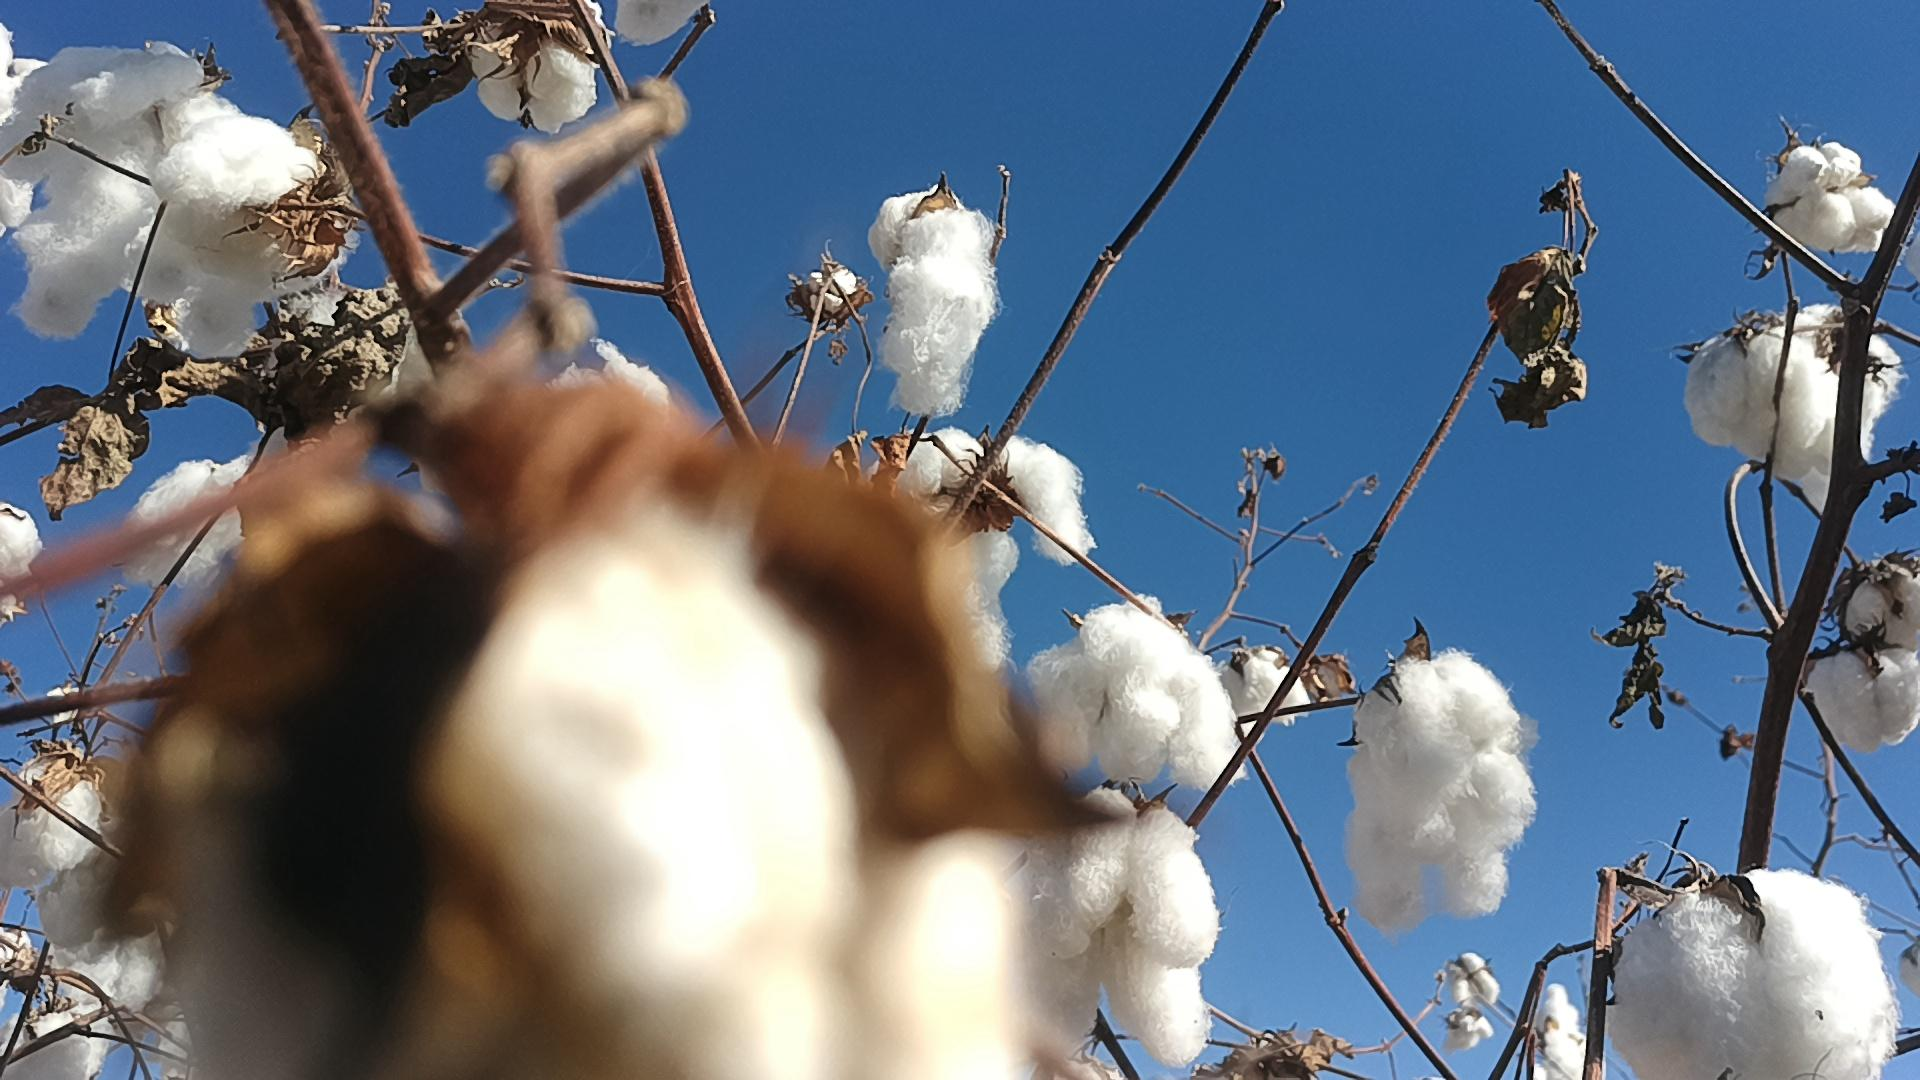cotton_ready: (171, 535, 1026, 1080), (0, 40, 351, 357), (1606, 870, 1898, 1080), (1010, 786, 1218, 1060), (1350, 651, 1536, 934), (884, 426, 1088, 659), (1018, 593, 1247, 789), (1683, 302, 1898, 509), (866, 191, 996, 415), (0, 756, 128, 901), (125, 454, 262, 587), (476, 0, 605, 133), (1768, 141, 1902, 261), (306, 284, 442, 401), (55, 927, 178, 1035), (1804, 641, 1920, 750), (526, 338, 683, 407), (0, 28, 47, 228), (1217, 653, 1316, 725), (1847, 555, 1920, 645), (0, 1023, 95, 1080), (621, 0, 705, 44), (0, 502, 38, 593)
